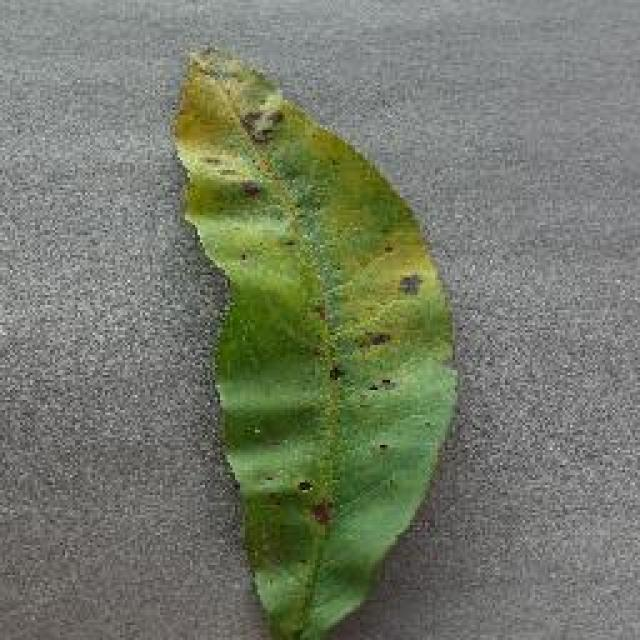Peach_Bacterial_Spot: (198, 11, 448, 456)
